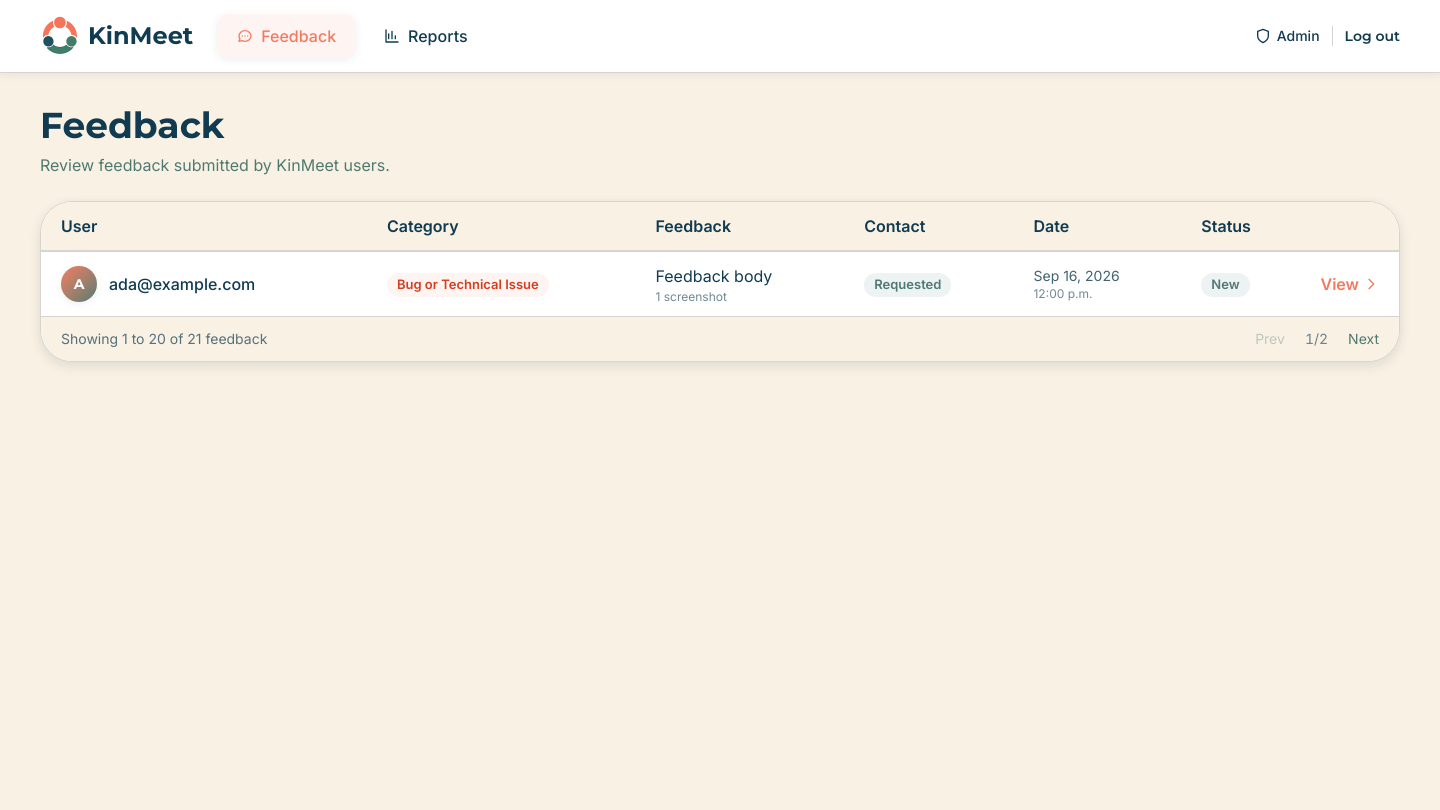
Test: AdminPage › hides stale list data on a page error and returns to login when the session expires
The image size is (1440, 810).
Expected: the text "Showing 1 to 20 of 21 feedback" is shown, [61,329,267,349]
Click the button with aria-label "next page" at (1364, 339), box [1348,329,1379,349]
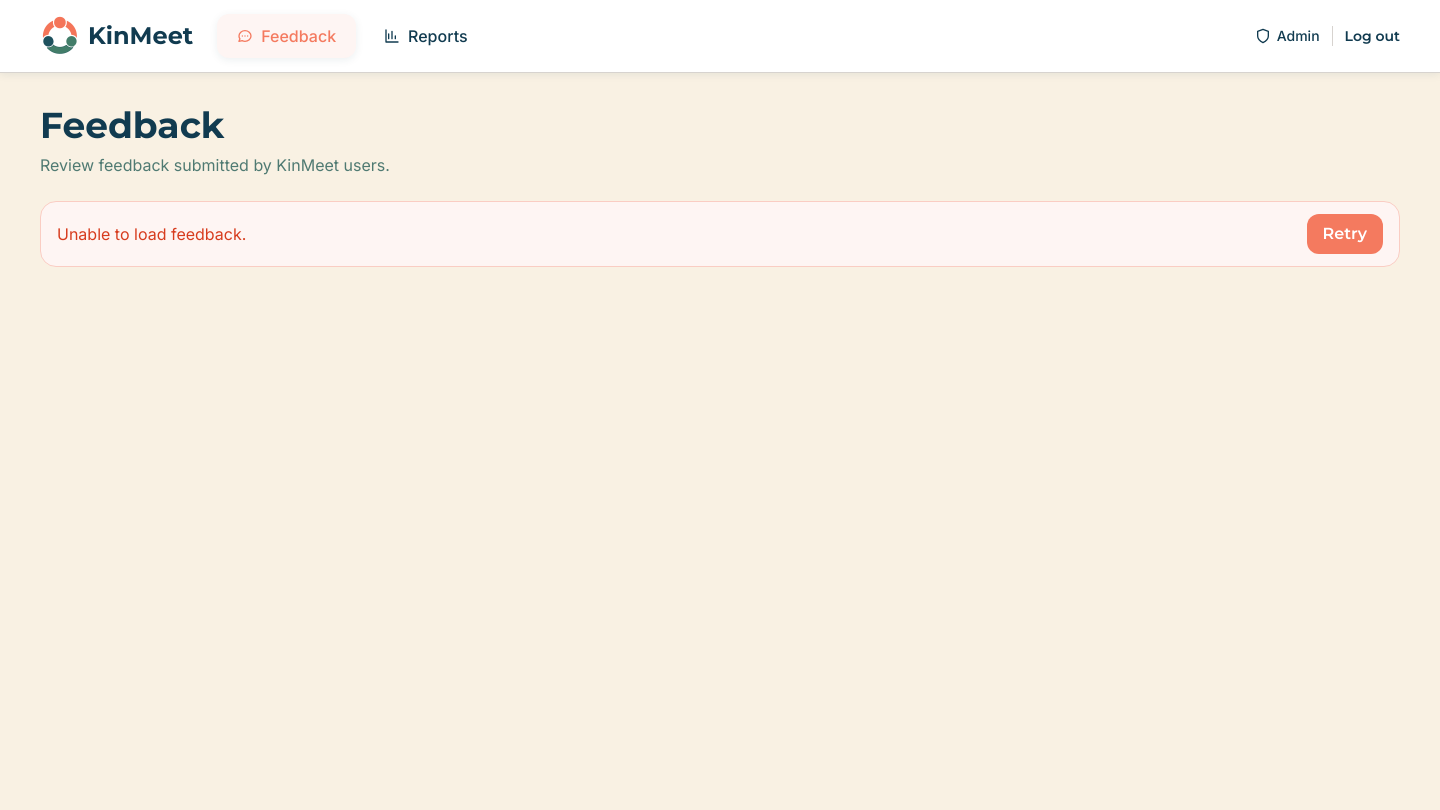
Expected: the message "Unable to load feedback. Retry" is shown, [40,201,1400,267]
Expected: the text "Feedback body" is gone
Expected: the text "Showing " is gone
Click the button "Retry" at (1345, 234), box [1307,214,1383,254]
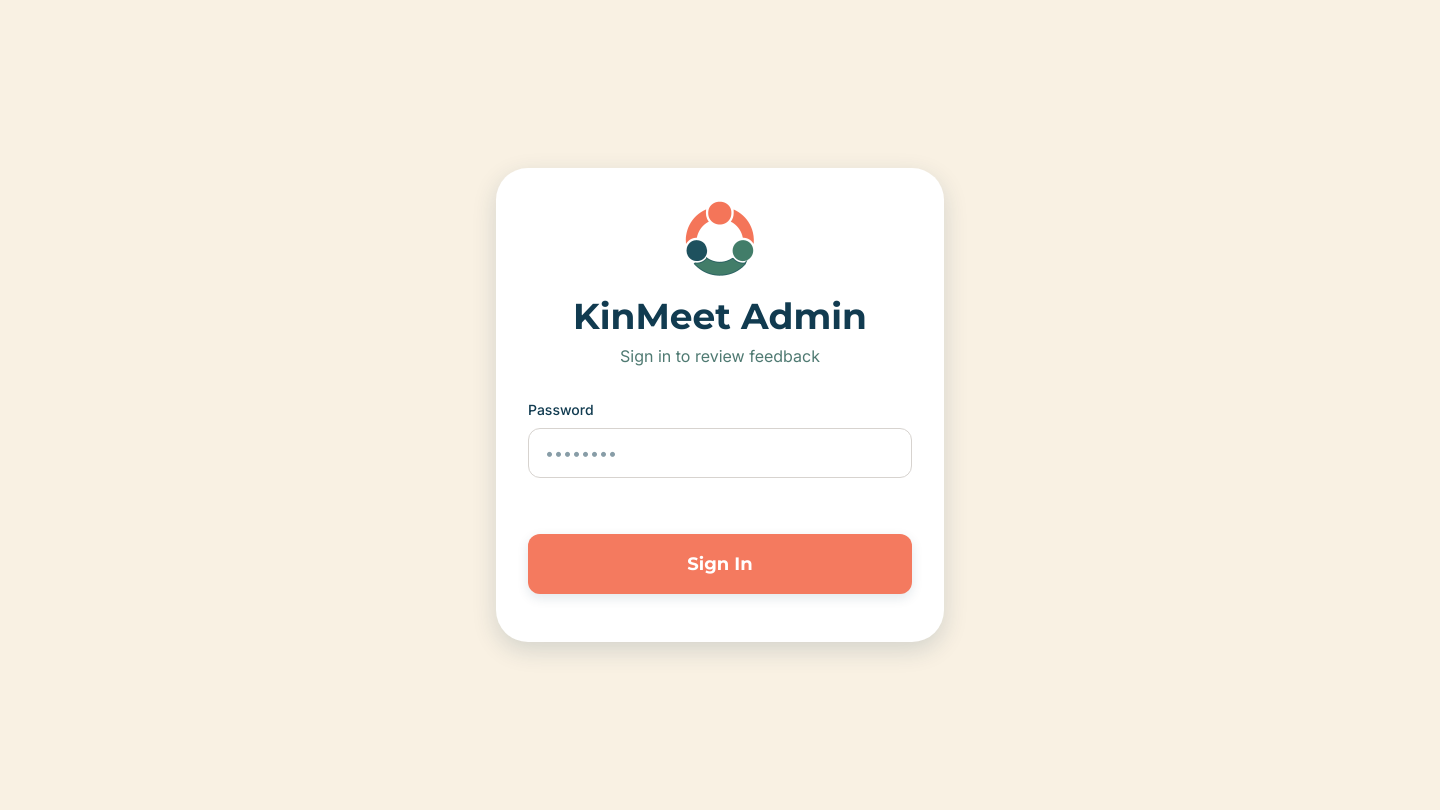
Expected: the password field labelled "Password" is shown, [528,428,912,478]
